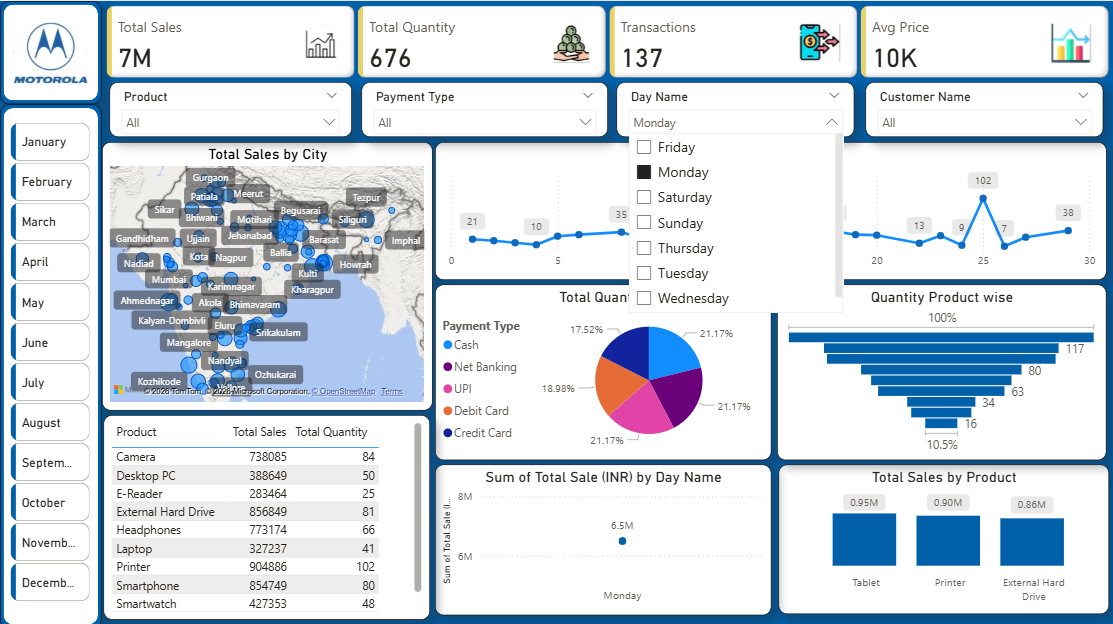

Layout of this report page (visuals, bound fields, positions):
{"tool":"powerbi","page":{"name":"Page 1","canvas":[1280,720],"ordinal":0},"visuals":[{"type":"shape","box":[0,0,116.7,118.3],"z":0},{"type":"image","box":[10,11.7,95,95],"z":1000},{"type":"shape","box":[0,118.3,116.7,601.7],"z":1001},{"type":"advancedSlicerVisual","fields":{"Values":["Sales_Data.Sales Date.Variation.Date Hierarchy.Month"]},"box":[6.7,135,101.7,570],"z":1002},{"type":"cardVisual","fields":{"Data":["Sales_Data.Total Sales","Sales_Data.Total Quantity","Sales_Data.Transactions","Sales_Data.Avg Price"]},"box":[116.7,0,1163.3,93.3],"z":1003},{"type":"map","fields":{"Category":["Sales_Data.City"],"Size":["Sales_Data.Total Sales"]},"box":[116.7,161.7,380,308.3],"z":1004},{"type":"lineChart","title":"Total Quantity","fields":{"Category":["Sales_Data.Sales Date.Variation.Date Hierarchy.Month","Sales_Data.Sales Date.Variation.Date Hierarchy.Day"],"Y":["Sales_Data.Total Quantity"]},"box":[500,161.7,771.7,158.3],"z":1005},{"type":"clusteredColumnChart","title":"Total Sales by Product","fields":{"Y":["Sum(Sales_Data.Total Sale (INR))"],"Category":["Sales_Data.Product"]},"box":[895,533.3,380,171.7],"z":1006},{"type":"pieChart","title":"Total Quantity","fields":{"Category":["Sales_Data.Payment Type"],"Y":["Sales_Data.Transactions"]},"box":[500,325,386.7,201.7],"z":1007},{"type":"funnel","title":"Quantity Product wise","fields":{"Category":["Sales_Data.Quantity"],"Y":["Sum(Sales_Data.Quantity)"]},"box":[893.3,325,378.3,201.7],"z":1008},{"type":"areaChart","fields":{"Category":["Sales_Data.Day Name"],"Y":["Sum(Sales_Data.Total Sale (INR))"]},"box":[500,533.3,386.7,173.3],"z":1009},{"type":"tableEx","title":"Total Quantity","fields":{"Values":["Sales_Data.Product","Sales_Data.Total Sales","Sales_Data.Total Quantity"]},"box":[118.3,475,375,235],"z":1010},{"type":"slicer","fields":{"Values":["Sales_Data.Product"]},"box":[125,93.3,278.3,63.3],"z":1011},{"type":"slicer","fields":{"Values":["Sales_Data.Payment Type"]},"box":[415,93.3,283.3,63.3],"z":1012},{"type":"slicer","fields":{"Values":["Sales_Data.Day Name"]},"box":[708.3,93.3,273.3,63.3],"z":1013},{"type":"slicer","fields":{"Values":["Sales_Data.Customer Name"]},"box":[995,93.3,273.3,63.3],"z":1014}]}

Visuals, with their boxes in screenshot pixels (x1, y1, x2, y2), scaled from the page's 1280x720 canvas onto the 1113x624 screenshot:
shape: bbox=[0, 0, 101, 103]
image: bbox=[9, 10, 91, 92]
shape: bbox=[0, 103, 101, 623]
advancedSlicerVisual - Sales_Data.Sales Date.Variation.Date Hierarchy.Month: bbox=[6, 117, 94, 611]
cardVisual - Sales_Data.Total Sales x Sales_Data.Total Quantity: bbox=[101, 0, 1112, 81]
map - Sales_Data.City x Sales_Data.Total Sales: bbox=[101, 140, 432, 407]
"Total Quantity" lineChart: bbox=[435, 140, 1106, 277]
"Total Sales by Product" clusteredColumnChart: bbox=[778, 462, 1109, 611]
"Total Quantity" pieChart: bbox=[435, 282, 771, 456]
"Quantity Product wise" funnel: bbox=[777, 282, 1106, 456]
areaChart - Sales_Data.Day Name x Sum(Sales_Data.Total Sale (INR)): bbox=[435, 462, 771, 612]
"Total Quantity" tableEx: bbox=[103, 412, 429, 615]
slicer - Sales_Data.Product: bbox=[109, 81, 351, 136]
slicer - Sales_Data.Payment Type: bbox=[361, 81, 607, 136]
slicer - Sales_Data.Day Name: bbox=[616, 81, 854, 136]
slicer - Sales_Data.Customer Name: bbox=[865, 81, 1103, 136]
